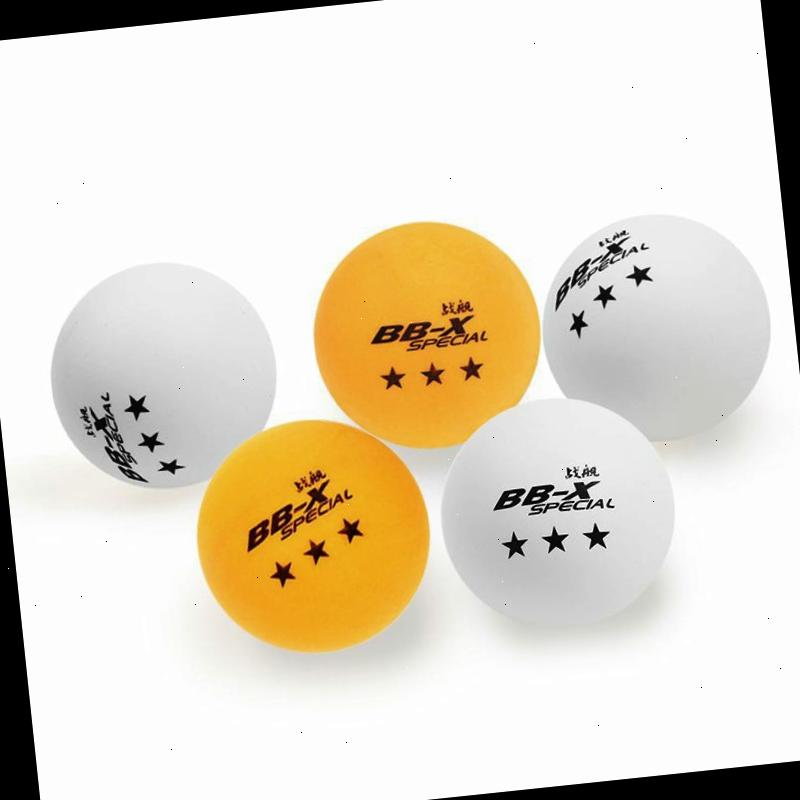ball: (422, 375, 704, 651), (524, 188, 790, 464), (181, 402, 445, 671), (294, 203, 560, 469), (32, 243, 292, 503)
